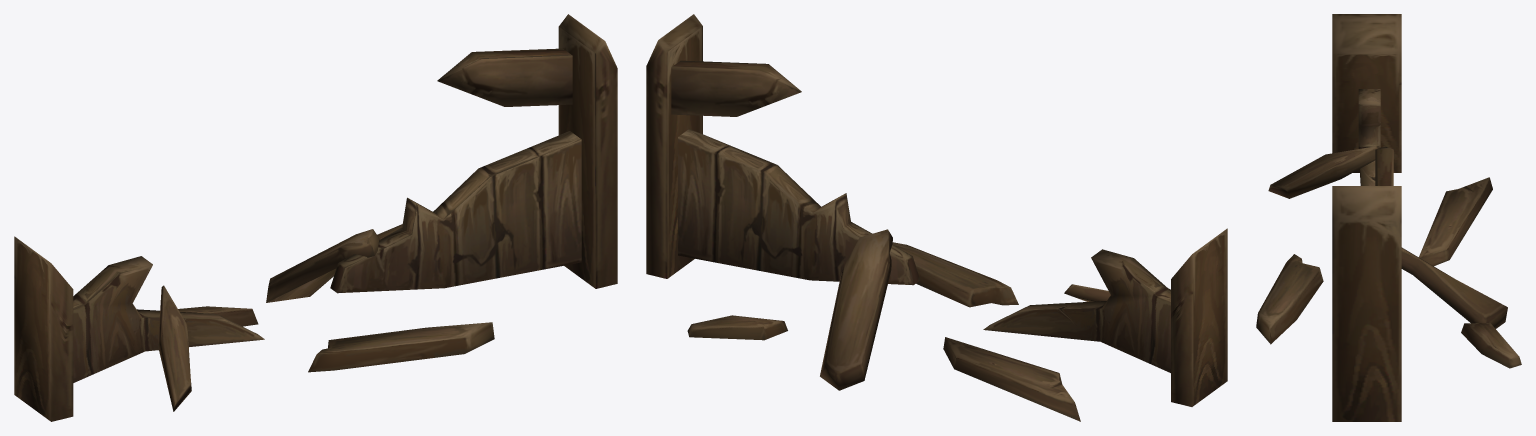
Rendered from mf_ruin021.FBX.
3 renders of one model, left to right at view 1: azimuth 30°, elevation 25°; view 2: azimuth 150°, elevation 25°; view 3: azimuth 270°, elevation 25°, orthographic. The views are drawn at different scales.
Parts seen in each view (by area): view 1: mf_ruin021; view 2: mf_ruin021; view 3: mf_ruin021.
Part boxes in pixels (x1=…): mf_ruin021: x1=14, y1=14, x2=617, y2=421; mf_ruin021: x1=646, y1=14, x2=1227, y2=421; mf_ruin021: x1=1256, y1=14, x2=1521, y2=421.
Size of the model in its own units: 1.99 by 0.8848 by 0.8612.
Materials: 1 (1 with a texture image).
